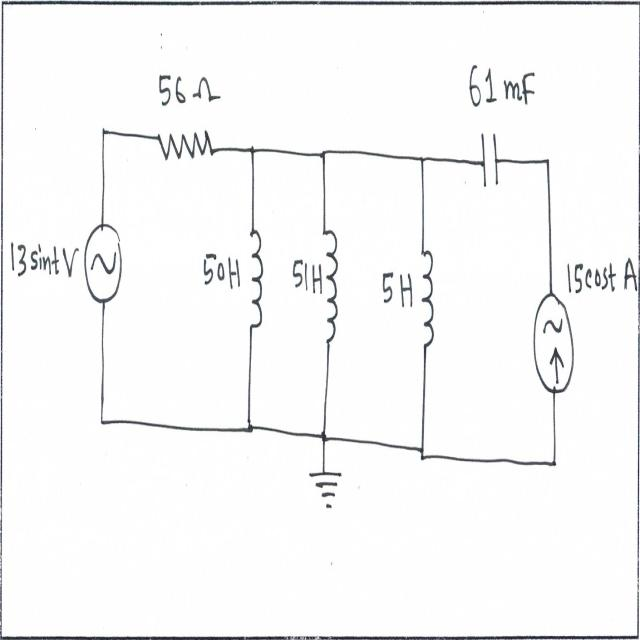ac_current: (82, 215, 126, 318)
capacitor: (476, 127, 504, 200)
current_source: (532, 288, 578, 402)
ground: (302, 464, 349, 521)
inductor: (322, 220, 345, 355), (244, 220, 266, 350), (417, 238, 438, 368)
resistor: (152, 122, 218, 169)
